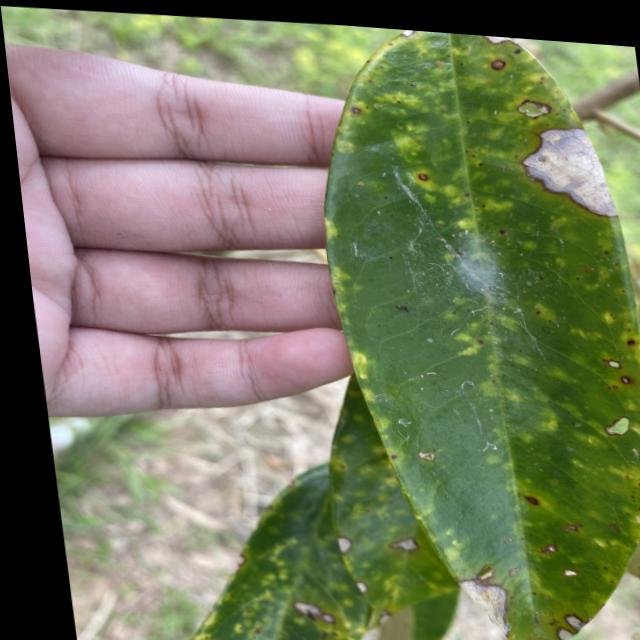Leaf Spot: (476, 68, 640, 232)
